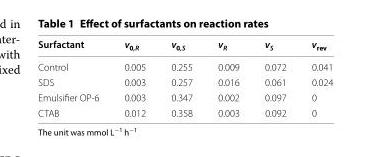table: (37, 37, 332, 118)
table column: (37, 37, 110, 118), (110, 37, 157, 118), (157, 37, 204, 118), (204, 37, 251, 118), (251, 37, 298, 118), (298, 37, 332, 118)
table column header: (37, 37, 332, 56)
table row: (37, 37, 332, 56), (37, 56, 332, 74), (37, 74, 332, 89), (37, 89, 332, 104), (37, 104, 332, 118)
